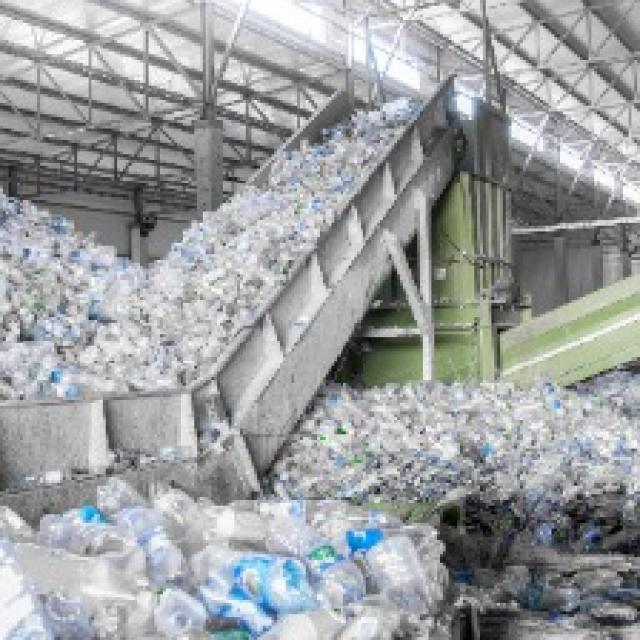heap: (66, 495, 422, 640), (14, 213, 182, 371), (366, 388, 612, 491), (195, 205, 291, 286)
plastic_bottle: (318, 510, 436, 617), (280, 518, 376, 633), (191, 540, 320, 621)
